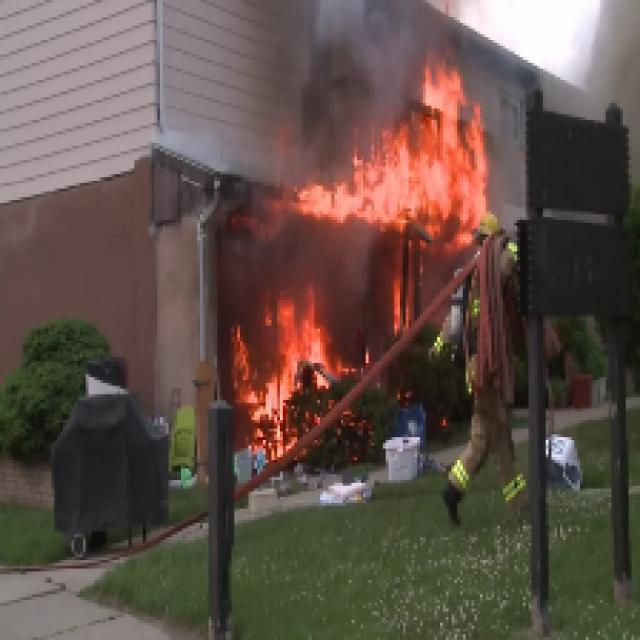Fire: (180, 66, 509, 500)
Smoke: (251, 0, 519, 151)
